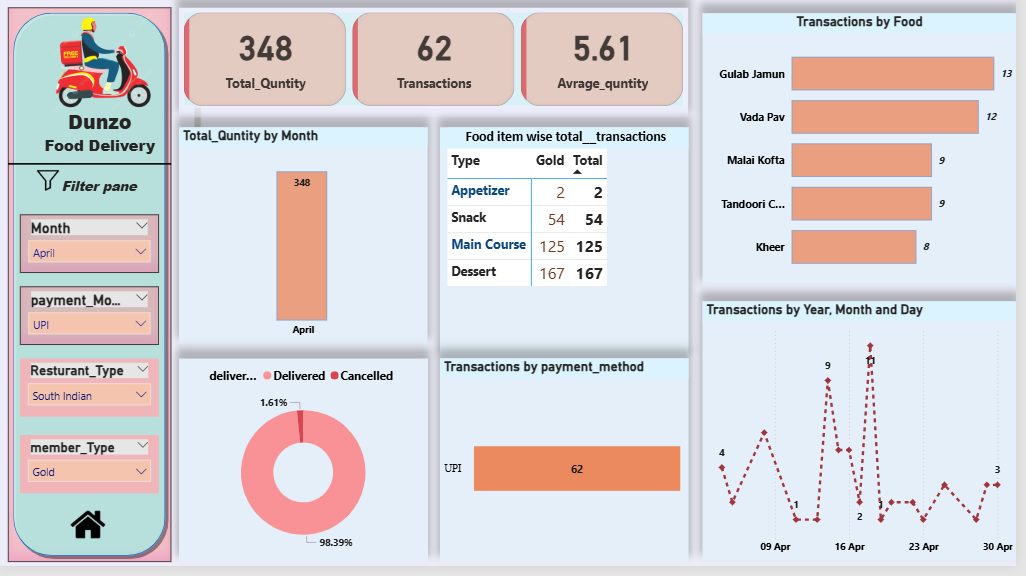

The page's visual inventory and layout, read from the dashboard file:
{"tool":"powerbi","page":{"name":"DUNZO Food Delivery dashborad","canvas":[1280,720],"ordinal":0},"visuals":[{"type":"shape","box":[10.7,16.9,205.3,697],"z":0},{"type":"image","box":[44.4,9.2,171.6,153.2],"z":1000},{"type":"textbox","box":[1.4,138.6,257.1,70],"z":2000},{"type":"shape","box":[10.7,182.3,205.3,61.3],"z":3000},{"type":"cardVisual","fields":{"Data":["Sales Data.Total_Quntity","Sales Data.Transactions","Sales Data.Avrage_quntity"]},"box":[226.7,16.9,640.3,137.9],"z":4000},{"type":"clusteredColumnChart","fields":{"Y":["Sales Data.Total_Quntity"],"Category":["Sales Data.orderDate.Variation.Date Hierarchy.Month"]},"box":[226.7,168.5,312.5,272.7],"z":5000},{"type":"pivotTable","title":"Food item wise total__transactions","fields":{"Rows":["Food_Details.Type"],"Values":["Sales Data.Total_Quntity"],"Columns":["Customer Details.member_Type"]},"box":[554.6,168.5,312.5,289.5],"z":6000},{"type":"donutChart","fields":{"Category":["Sales Data.deliver_status"],"Y":["CountNonNull(Sales Data.deliver_status)"]},"box":[226.7,458,312.5,255.8],"z":7000},{"type":"funnel","fields":{"Category":["Sales Data.payment_method"],"Y":["Sales Data.Transactions"]},"box":[554.6,458,312.5,255.8],"z":8000},{"type":"clusteredBarChart","fields":{"Category":["Food_Details.Food"],"Y":["Sales Data.Transactions"]},"box":[885.4,24.5,395.2,343.1],"z":9000},{"type":"lineChart","fields":{"Y":["Sales Data.Transactions"],"Category":["Sales Data.orderDate.Variation.Date Hierarchy.Year","Sales Data.orderDate.Variation.Date Hierarchy.Month","Sales Data.orderDate.Variation.Date Hierarchy.Day"]},"box":[885.4,387.6,395.2,326.3],"z":10000},{"type":"slicer","fields":{"Values":["Sales Data.orderDate.Variation.Date Hierarchy.Month"]},"box":[26,277.3,174.6,73.5],"z":11000},{"type":"slicer","fields":{"Values":["Sales Data.payment_method"]},"box":[26,367.7,174.6,73.5],"z":11001},{"type":"slicer","fields":{"Values":["Resturant_Details.Resturant_type"]},"box":[26,458,174.6,73.5],"z":11002},{"type":"slicer","fields":{"Values":["Customer Details.member_Type"]},"box":[26,554.6,174.6,73.5],"z":11003},{"type":"image","box":[39.8,216,44.4,38.3],"z":11004},{"type":"textbox","box":[73.5,206.8,127.1,55.1],"z":11005},{"type":"image","box":[84.3,638.8,53.6,55.1],"z":11006}]}

Visuals, with their boxes in screenshot pixels (x1, y1, x2, y2), scaled from the page's 1280x720 canvas onto the 1026x576 screenshot:
shape: 9/14/173/571
image: 36/7/173/130
textbox: 1/111/207/167
shape: 9/146/173/195
cardVisual - Sales Data.Total_Quntity x Sales Data.Transactions: 182/14/695/124
clusteredColumnChart - Sales Data.Total_Quntity x Sales Data.orderDate.Variation.Date Hierarchy.Month: 182/135/432/353
"Food item wise total__transactions" pivotTable: 445/135/695/366
donutChart - Sales Data.deliver_status x CountNonNull(Sales Data.deliver_status): 182/366/432/571
funnel - Sales Data.payment_method x Sales Data.Transactions: 445/366/695/571
clusteredBarChart - Food_Details.Food x Sales Data.Transactions: 710/20/1025/294
lineChart - Sales Data.Transactions x Sales Data.orderDate.Variation.Date Hierarchy.Year: 710/310/1025/571
slicer - Sales Data.orderDate.Variation.Date Hierarchy.Month: 21/222/161/281
slicer - Sales Data.payment_method: 21/294/161/353
slicer - Resturant_Details.Resturant_type: 21/366/161/425
slicer - Customer Details.member_Type: 21/444/161/502
image: 32/173/67/203
textbox: 59/165/161/210
image: 68/511/111/555
